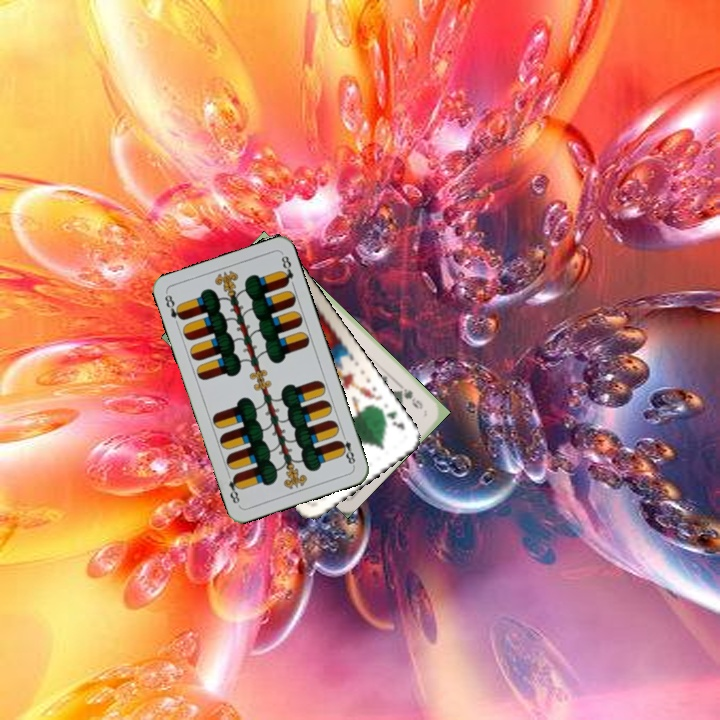E8: (334, 429, 358, 469), (160, 290, 186, 323)
G9: (395, 384, 426, 412)
GK: (376, 405, 408, 433)
